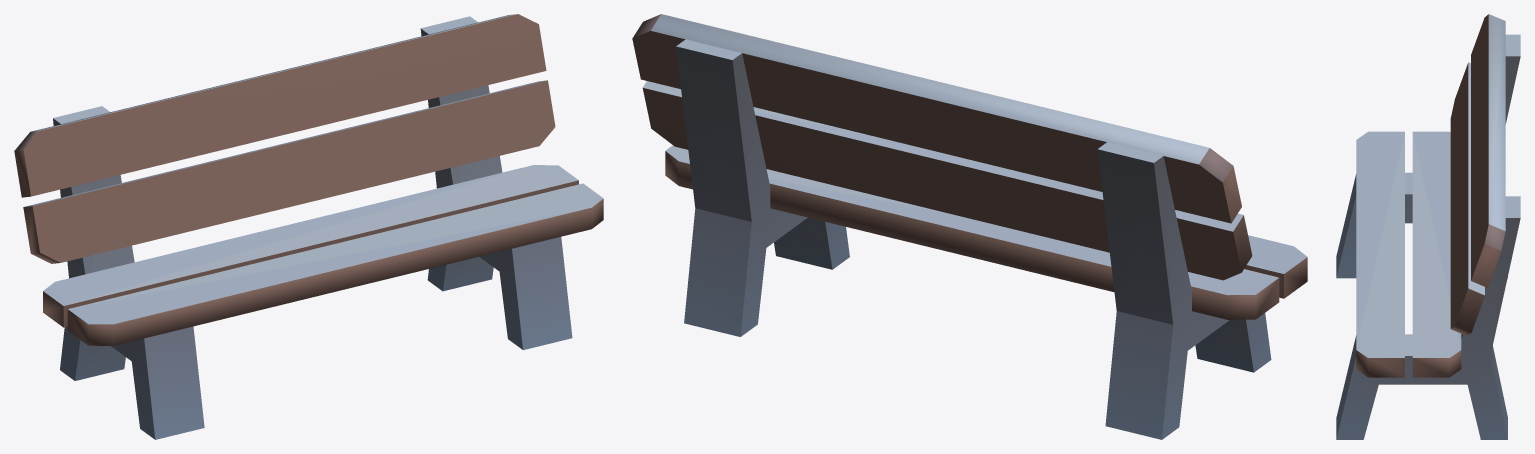
Rendered from bench.glb.
3 renders of one model, left to right at view 1: azimuth 30°, elevation 25°; view 2: azimuth 150°, elevation 25°; view 3: azimuth 270°, elevation 25°, orthographic. The views are drawn at different scales.
Parts seen in each view (by area): view 1: Prop; view 2: Prop; view 3: Prop.
Part boxes in pixels (x1=…): Prop: x1=14, y1=14, x2=603, y2=439; Prop: x1=632, y1=14, x2=1307, y2=439; Prop: x1=1336, y1=14, x2=1520, y2=439.
Size of the model in its own units: 1.8 by 0.85 by 0.62.
